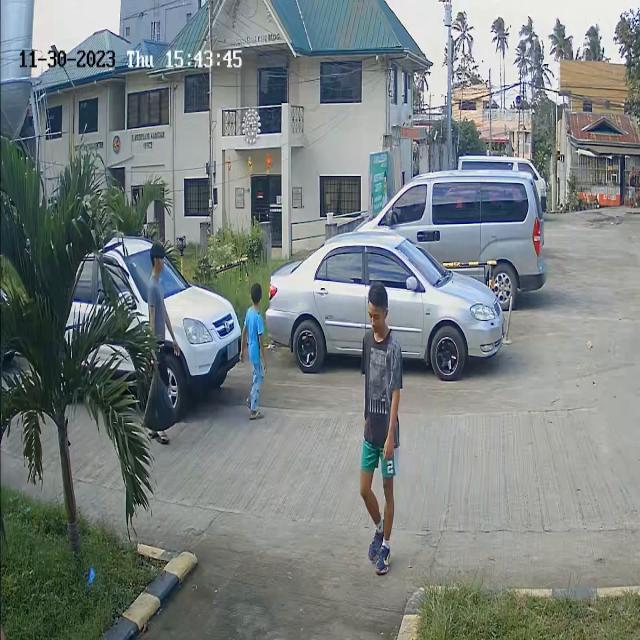garbage: (144, 366, 175, 434)
person: (359, 282, 404, 573), (240, 278, 271, 423), (142, 241, 170, 357)
